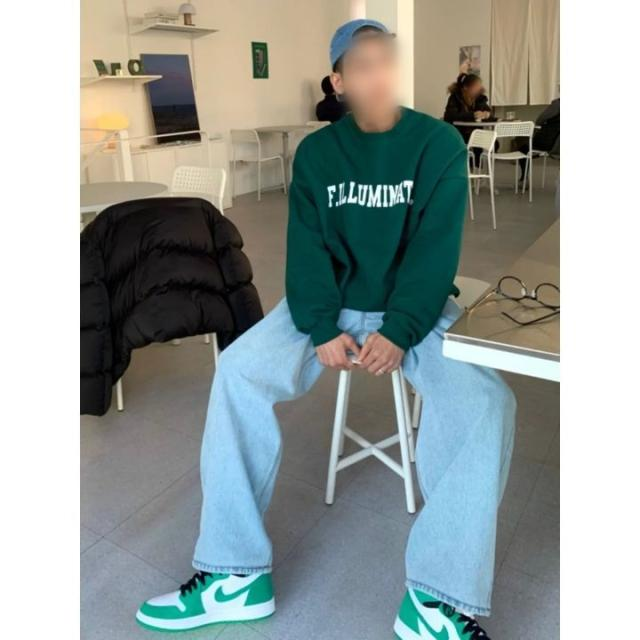denimpants: (195, 291, 521, 614), (197, 291, 328, 578)
mtm: (288, 109, 472, 356)
